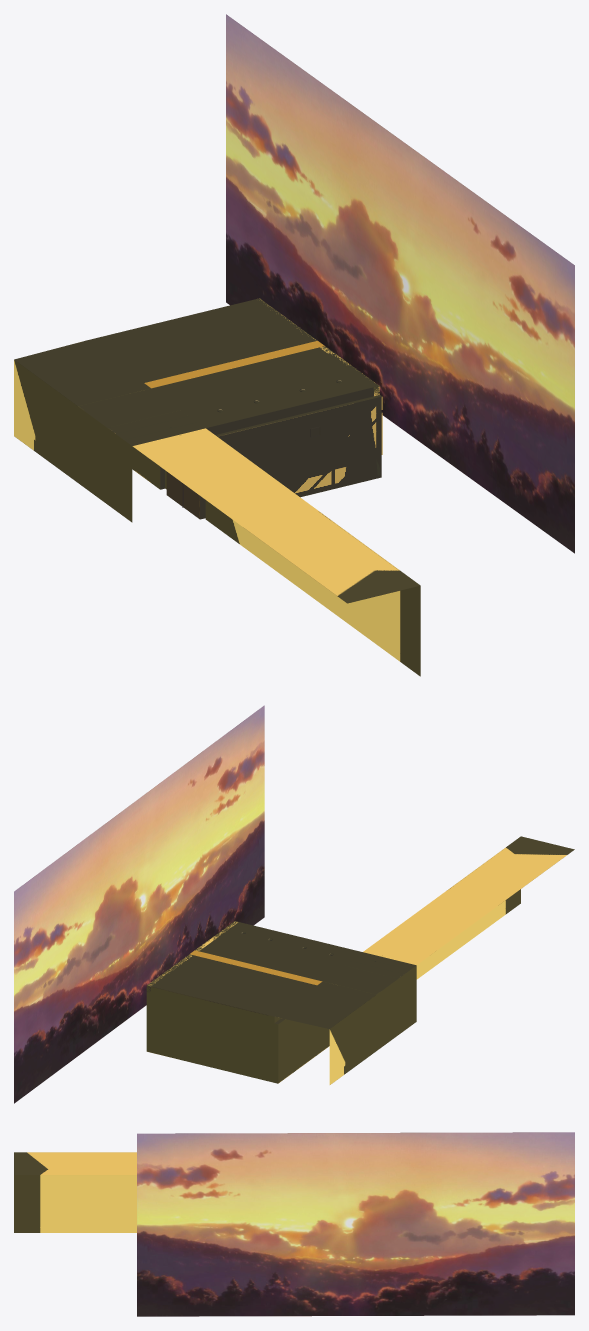
The model's file is anime-classroom.glb.
3 views of the same model, one above another, from view 1: azimuth 30°, elevation 25°; view 2: azimuth 150°, elevation 25°; view 3: azimuth 270°, elevation 25° (orthographic). The views are drawn at different scales.
Parts seen in each view (by area): view 1: Object_3, Object_12; view 2: Object_3, Object_12; view 3: Object_3, Object_12.
Part boxes in pixels (x1,y1,x2,y2): Object_3: [226, 14, 574, 553]; Object_12: [14, 298, 420, 676]; Object_3: [14, 705, 264, 1103]; Object_12: [146, 836, 574, 1084]; Object_3: [137, 1132, 574, 1316]; Object_12: [14, 1152, 136, 1232].
Size of the model in its own units: 38.04 by 32.3 by 89.69.
19 materials, 18 textured.
